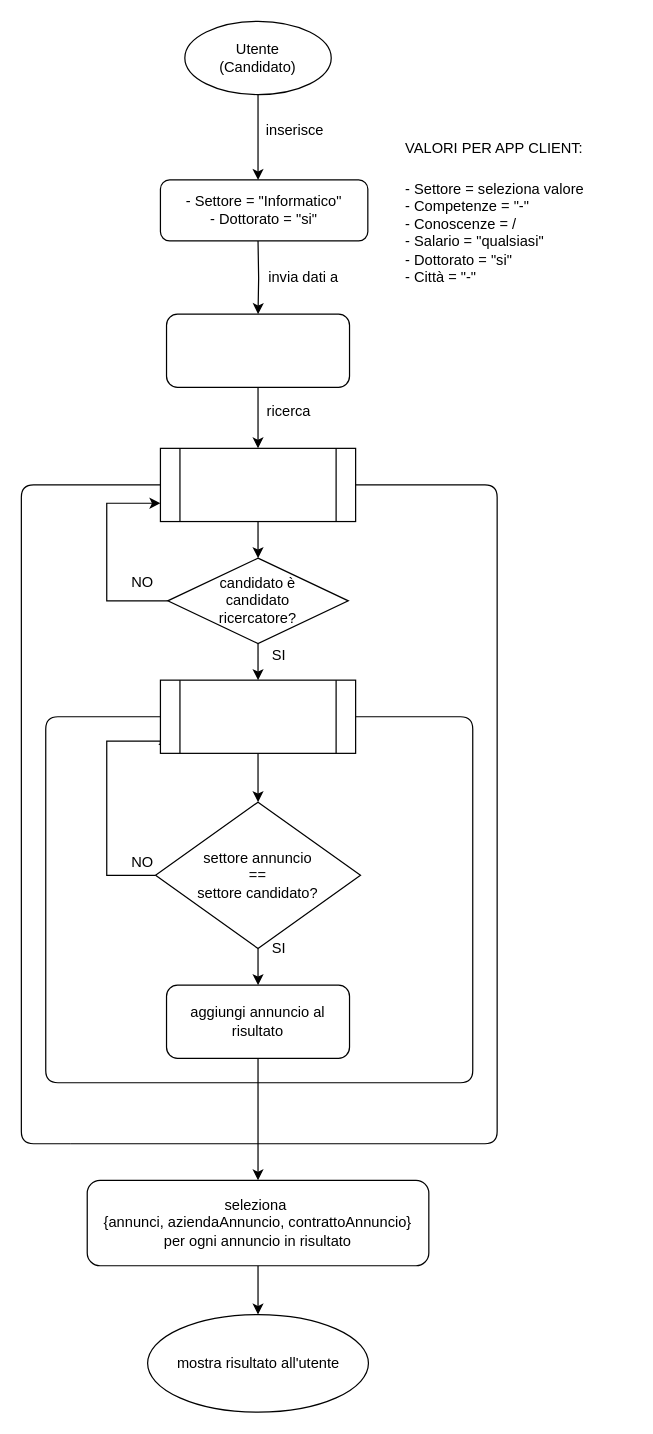
The diagram is 653 pixels wide and 1434 high, and some of its shapes have lost their labels. The shapes that lost their labels are listed below. From the top down, each one's centre as x and y in pixels, then its label:
[257,350]: SIstema (Ontologia del lavoro)
[257,484]: per ogni candidato nell'ontologia
[257,716]: per ogni annuncio nell'ontologia
